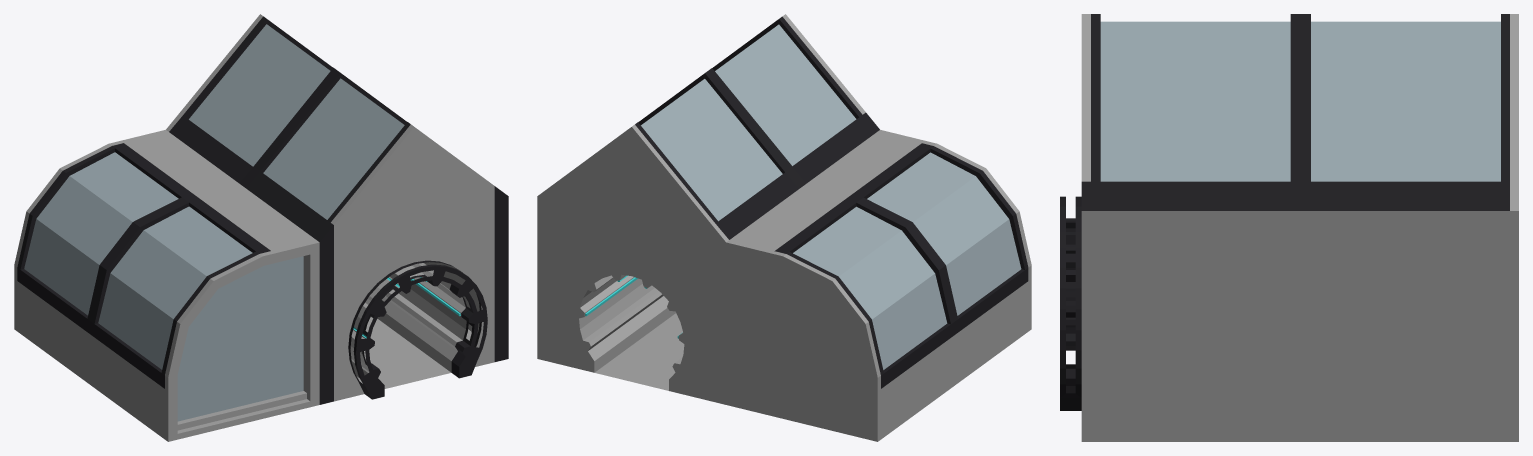
Rendered from Tunnel_Back_Final.obj.
The picture shows the model from 3 angles, left to right: view 1: azimuth 30°, elevation 25°; view 2: azimuth 150°, elevation 25°; view 3: azimuth 270°, elevation 25°; orthographic projection. The views are drawn at different scales.
Parts seen in each view (by area): view 1: Cylinder; view 2: Cylinder; view 3: Cylinder.
Part boxes in pixels (<box>): Cylinder: <box>14,14,508,441</box>; Cylinder: <box>537,14,1031,441</box>; Cylinder: <box>1060,14,1518,441</box>.
Size of the model in its own units: 19.78 by 14.16 by 16.25.
1 material, 1 textured.
